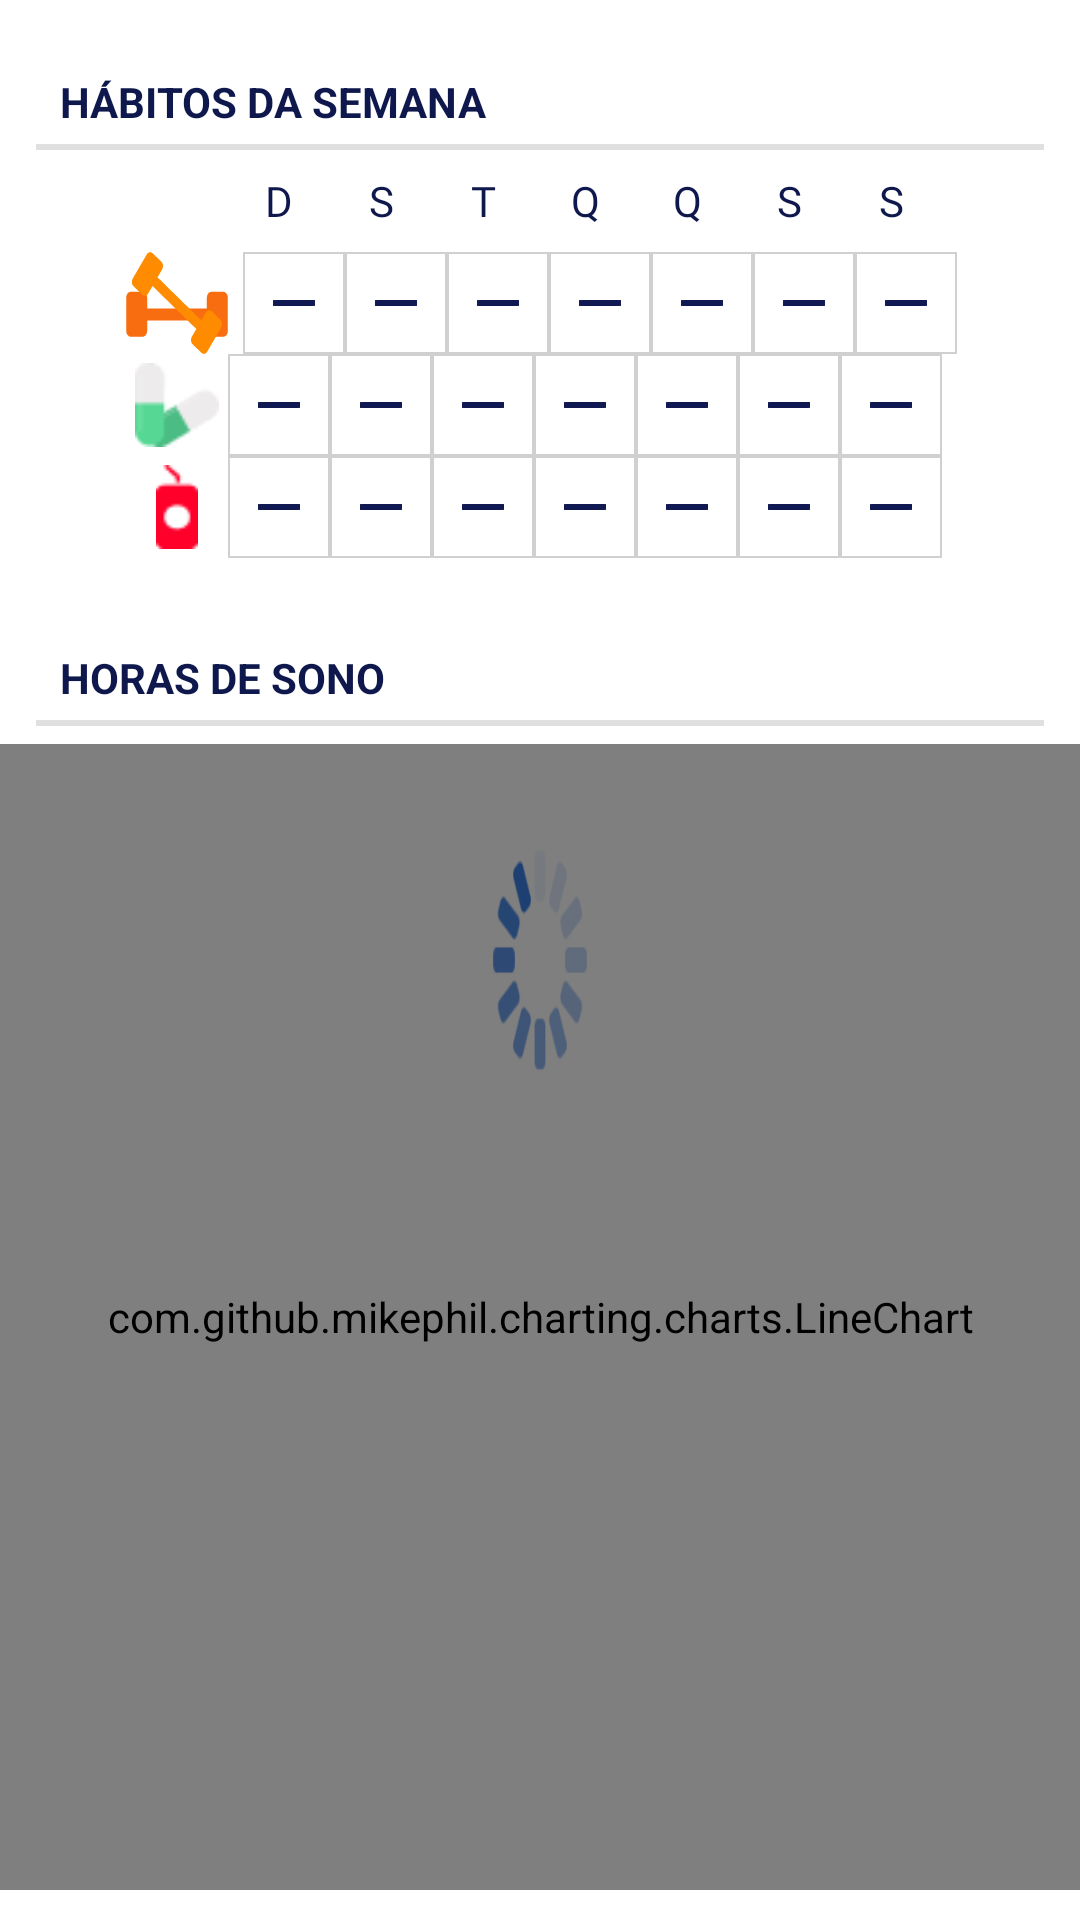

Icon click points for this 1080x1920 phone screenshot, format [x,y]:
exercicio check: [177,303]
grafico bebida chk: [177,507]
grafico remedio chk: [163,405]
loading: [540,965]
